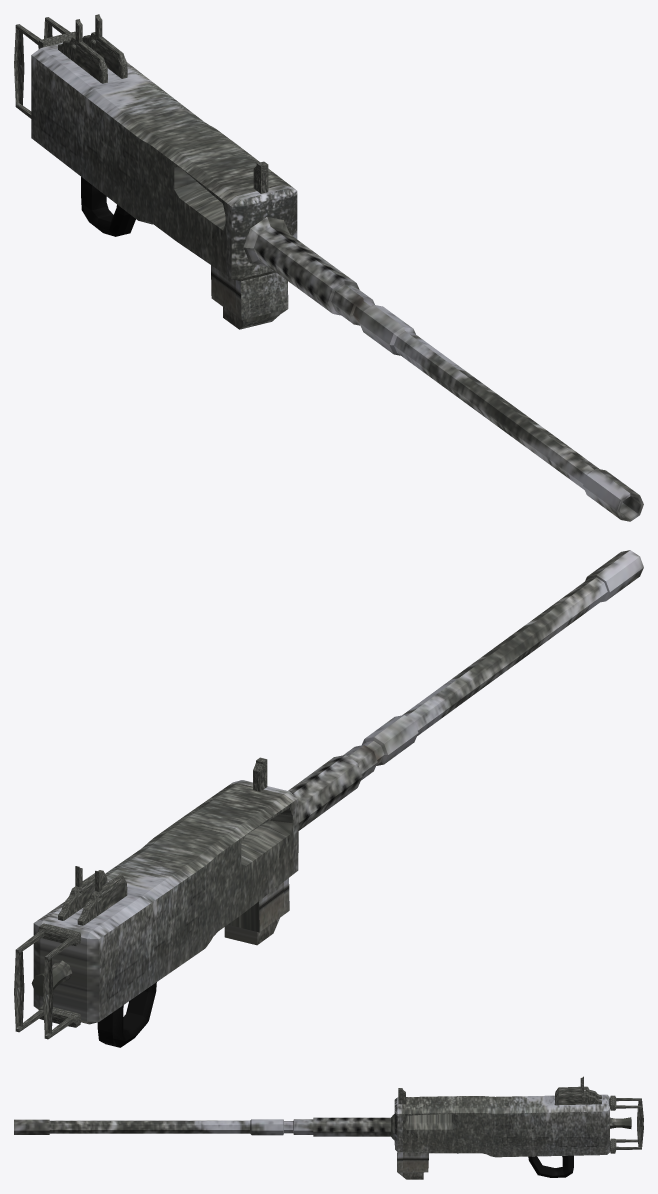
Rendered from dzialko.obj.
3 renders of one model, top to bottom at view 1: azimuth 30°, elevation 25°; view 2: azimuth 150°, elevation 25°; view 3: azimuth 270°, elevation 25°, orthographic. The views are drawn at different scales.
Parts seen in each view (by area): view 1: Plane.001; view 2: Plane.001; view 3: Plane.001.
Boxes of the visible parts, x1=… form: Plane.001: x1=14, y1=14, x2=643, y2=521; Plane.001: x1=14, y1=550, x2=643, y2=1047; Plane.001: x1=14, y1=1076, x2=643, y2=1179.
Size of the model in its own units: 0.5 by 1.37 by 7.93.
